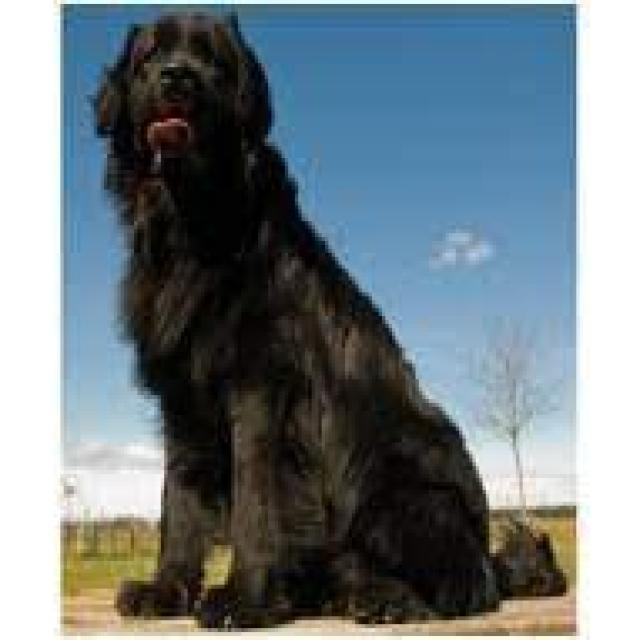Dog: (84, 12, 285, 187)
